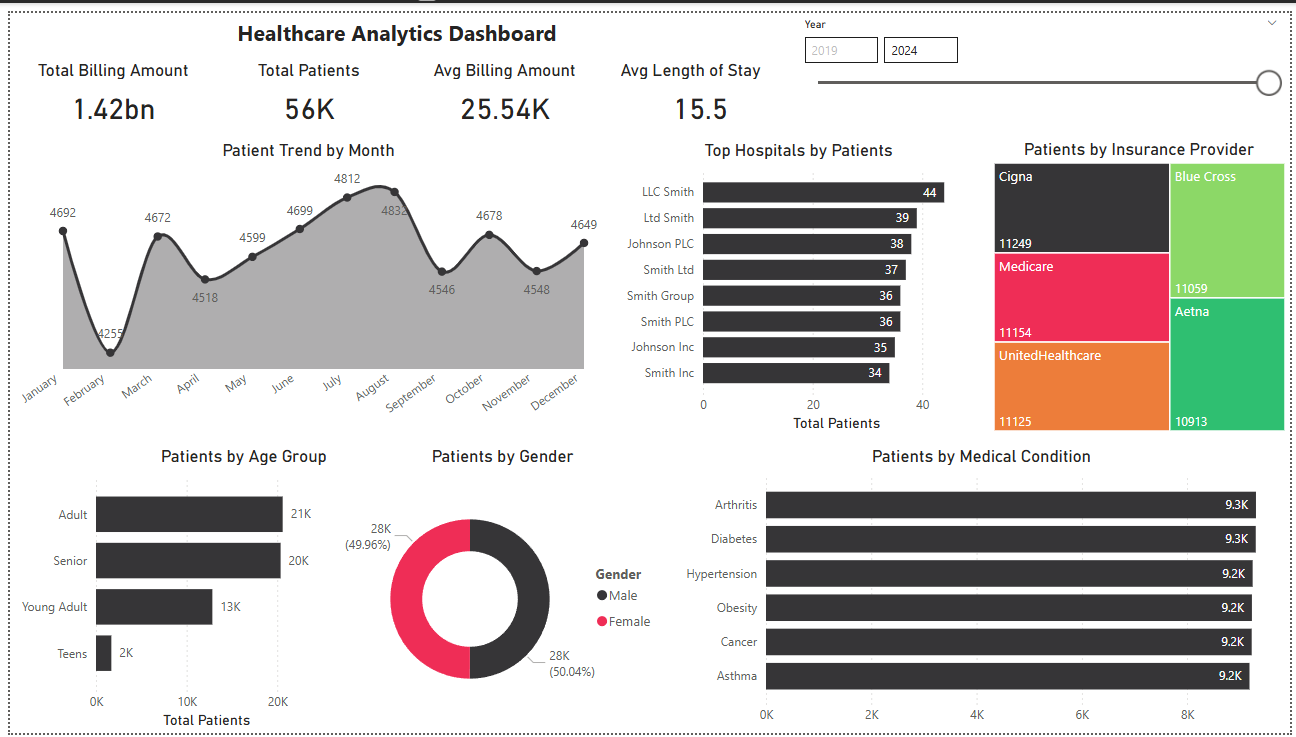

The page's visual inventory and layout, read from the dashboard file:
{"tool":"powerbi","page":{"name":"Page 1","canvas":[1280,720],"ordinal":0},"visuals":[{"type":"card","title":"Total Patients","fields":{"Values":["healthcare_dataset.Total Patients"]},"box":[214,47,170,74],"z":0,"group":"g1"},{"type":"lineChart","title":"Patient Trend by Month","fields":{"Category":["healthcare_dataset.Date of Admission.Variation.Date Hierarchy.Month"],"Y":["healthcare_dataset.Total Patients"]},"box":[0,127,598,296],"z":0},{"type":"card","title":"Avg Length of Stay","fields":{"Values":["healthcare_dataset.avg lenth of stay"]},"box":[606,47,169,74],"z":1000,"group":"g1"},{"type":"barChart","title":"Patients by Age Group","fields":{"Category":["healthcare_dataset.age group"],"Y":["healthcare_dataset.Total Patients"]},"box":[0,433,321.9,286.7],"z":1000},{"type":"card","title":"Total Billing Amount","fields":{"Values":["healthcare_dataset.total billing abmout"]},"box":[0,47,207,74],"z":2000,"group":"g1"},{"type":"donutChart","title":"Patients by Gender","fields":{"Category":["healthcare_dataset.Gender"],"Y":["healthcare_dataset.Total Patients"]},"box":[329,433,328,287],"z":2000},{"type":"card","title":"Avg Billing Amount","fields":{"Values":["healthcare_dataset.avg billiing amount"]},"box":[392,47,206,74],"z":3000,"group":"g1"},{"type":"barChart","title":"Patients by Medical Condition","fields":{"Category":["healthcare_dataset.Medical Condition"],"Y":["healthcare_dataset.all petietsn"]},"box":[664.3,433.4,615.7,286.6],"z":3000},{"type":"barChart","title":"Top Hospitals by Patients","fields":{"Category":["healthcare_dataset.Hospital"],"Y":["healthcare_dataset.Total Patients"]},"box":[606,127,366,296],"z":4000},{"type":"treemap","title":"Patients by Insurance Provider","fields":{"Group":["healthcare_dataset.Insurance Provider"],"Values":["healthcare_dataset.Total Patients"]},"box":[979,126,301,297],"z":5000},{"type":"slicer","fields":{"Values":["healthcare_dataset.Date of Admission.Variation.Date Hierarchy.Year"]},"box":[782,0,498,121],"z":6000},{"type":"textbox","box":[0,0,775,43],"z":7000},{"type":"group","id":"g1","title":"Group 1","box":[0,47,775,74],"z":8000}]}

Visuals, with their boxes in screenshot pixels (x1, y1, x2, y2), scaled from the page's 1280x720 canvas onto the 1296x737 screenshot:
"Total Patients" card: {"x1": 217, "y1": 48, "x2": 389, "y2": 124}
"Patient Trend by Month" lineChart: {"x1": 0, "y1": 130, "x2": 605, "y2": 433}
"Avg Length of Stay" card: {"x1": 614, "y1": 48, "x2": 785, "y2": 124}
"Patients by Age Group" barChart: {"x1": 0, "y1": 443, "x2": 326, "y2": 736}
"Total Billing Amount" card: {"x1": 0, "y1": 48, "x2": 210, "y2": 124}
"Patients by Gender" donutChart: {"x1": 333, "y1": 443, "x2": 665, "y2": 736}
"Avg Billing Amount" card: {"x1": 397, "y1": 48, "x2": 605, "y2": 124}
"Patients by Medical Condition" barChart: {"x1": 673, "y1": 444, "x2": 1295, "y2": 736}
"Top Hospitals by Patients" barChart: {"x1": 614, "y1": 130, "x2": 984, "y2": 433}
"Patients by Insurance Provider" treemap: {"x1": 991, "y1": 129, "x2": 1295, "y2": 433}
slicer - healthcare_dataset.Date of Admission.Variation.Date Hierarchy.Year: {"x1": 792, "y1": 0, "x2": 1295, "y2": 124}
textbox: {"x1": 0, "y1": 0, "x2": 785, "y2": 44}
"Group 1" group: {"x1": 0, "y1": 48, "x2": 785, "y2": 124}
